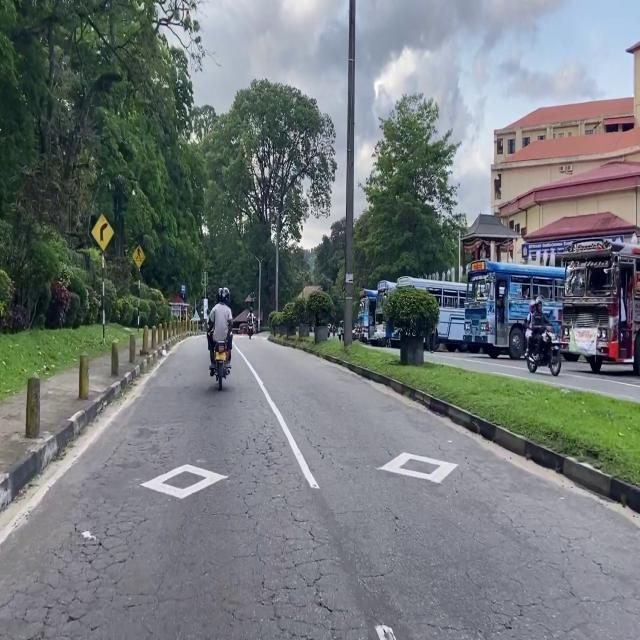bus: (562, 241, 640, 376), (464, 260, 564, 360), (397, 276, 466, 351), (374, 280, 400, 347), (358, 289, 377, 343)
motorcycle: (525, 325, 562, 376), (214, 342, 230, 390), (248, 324, 253, 340)
person: (208, 287, 233, 376), (530, 296, 546, 363), (525, 300, 535, 353), (247, 308, 254, 327), (337, 322, 343, 341), (332, 324, 336, 338)
